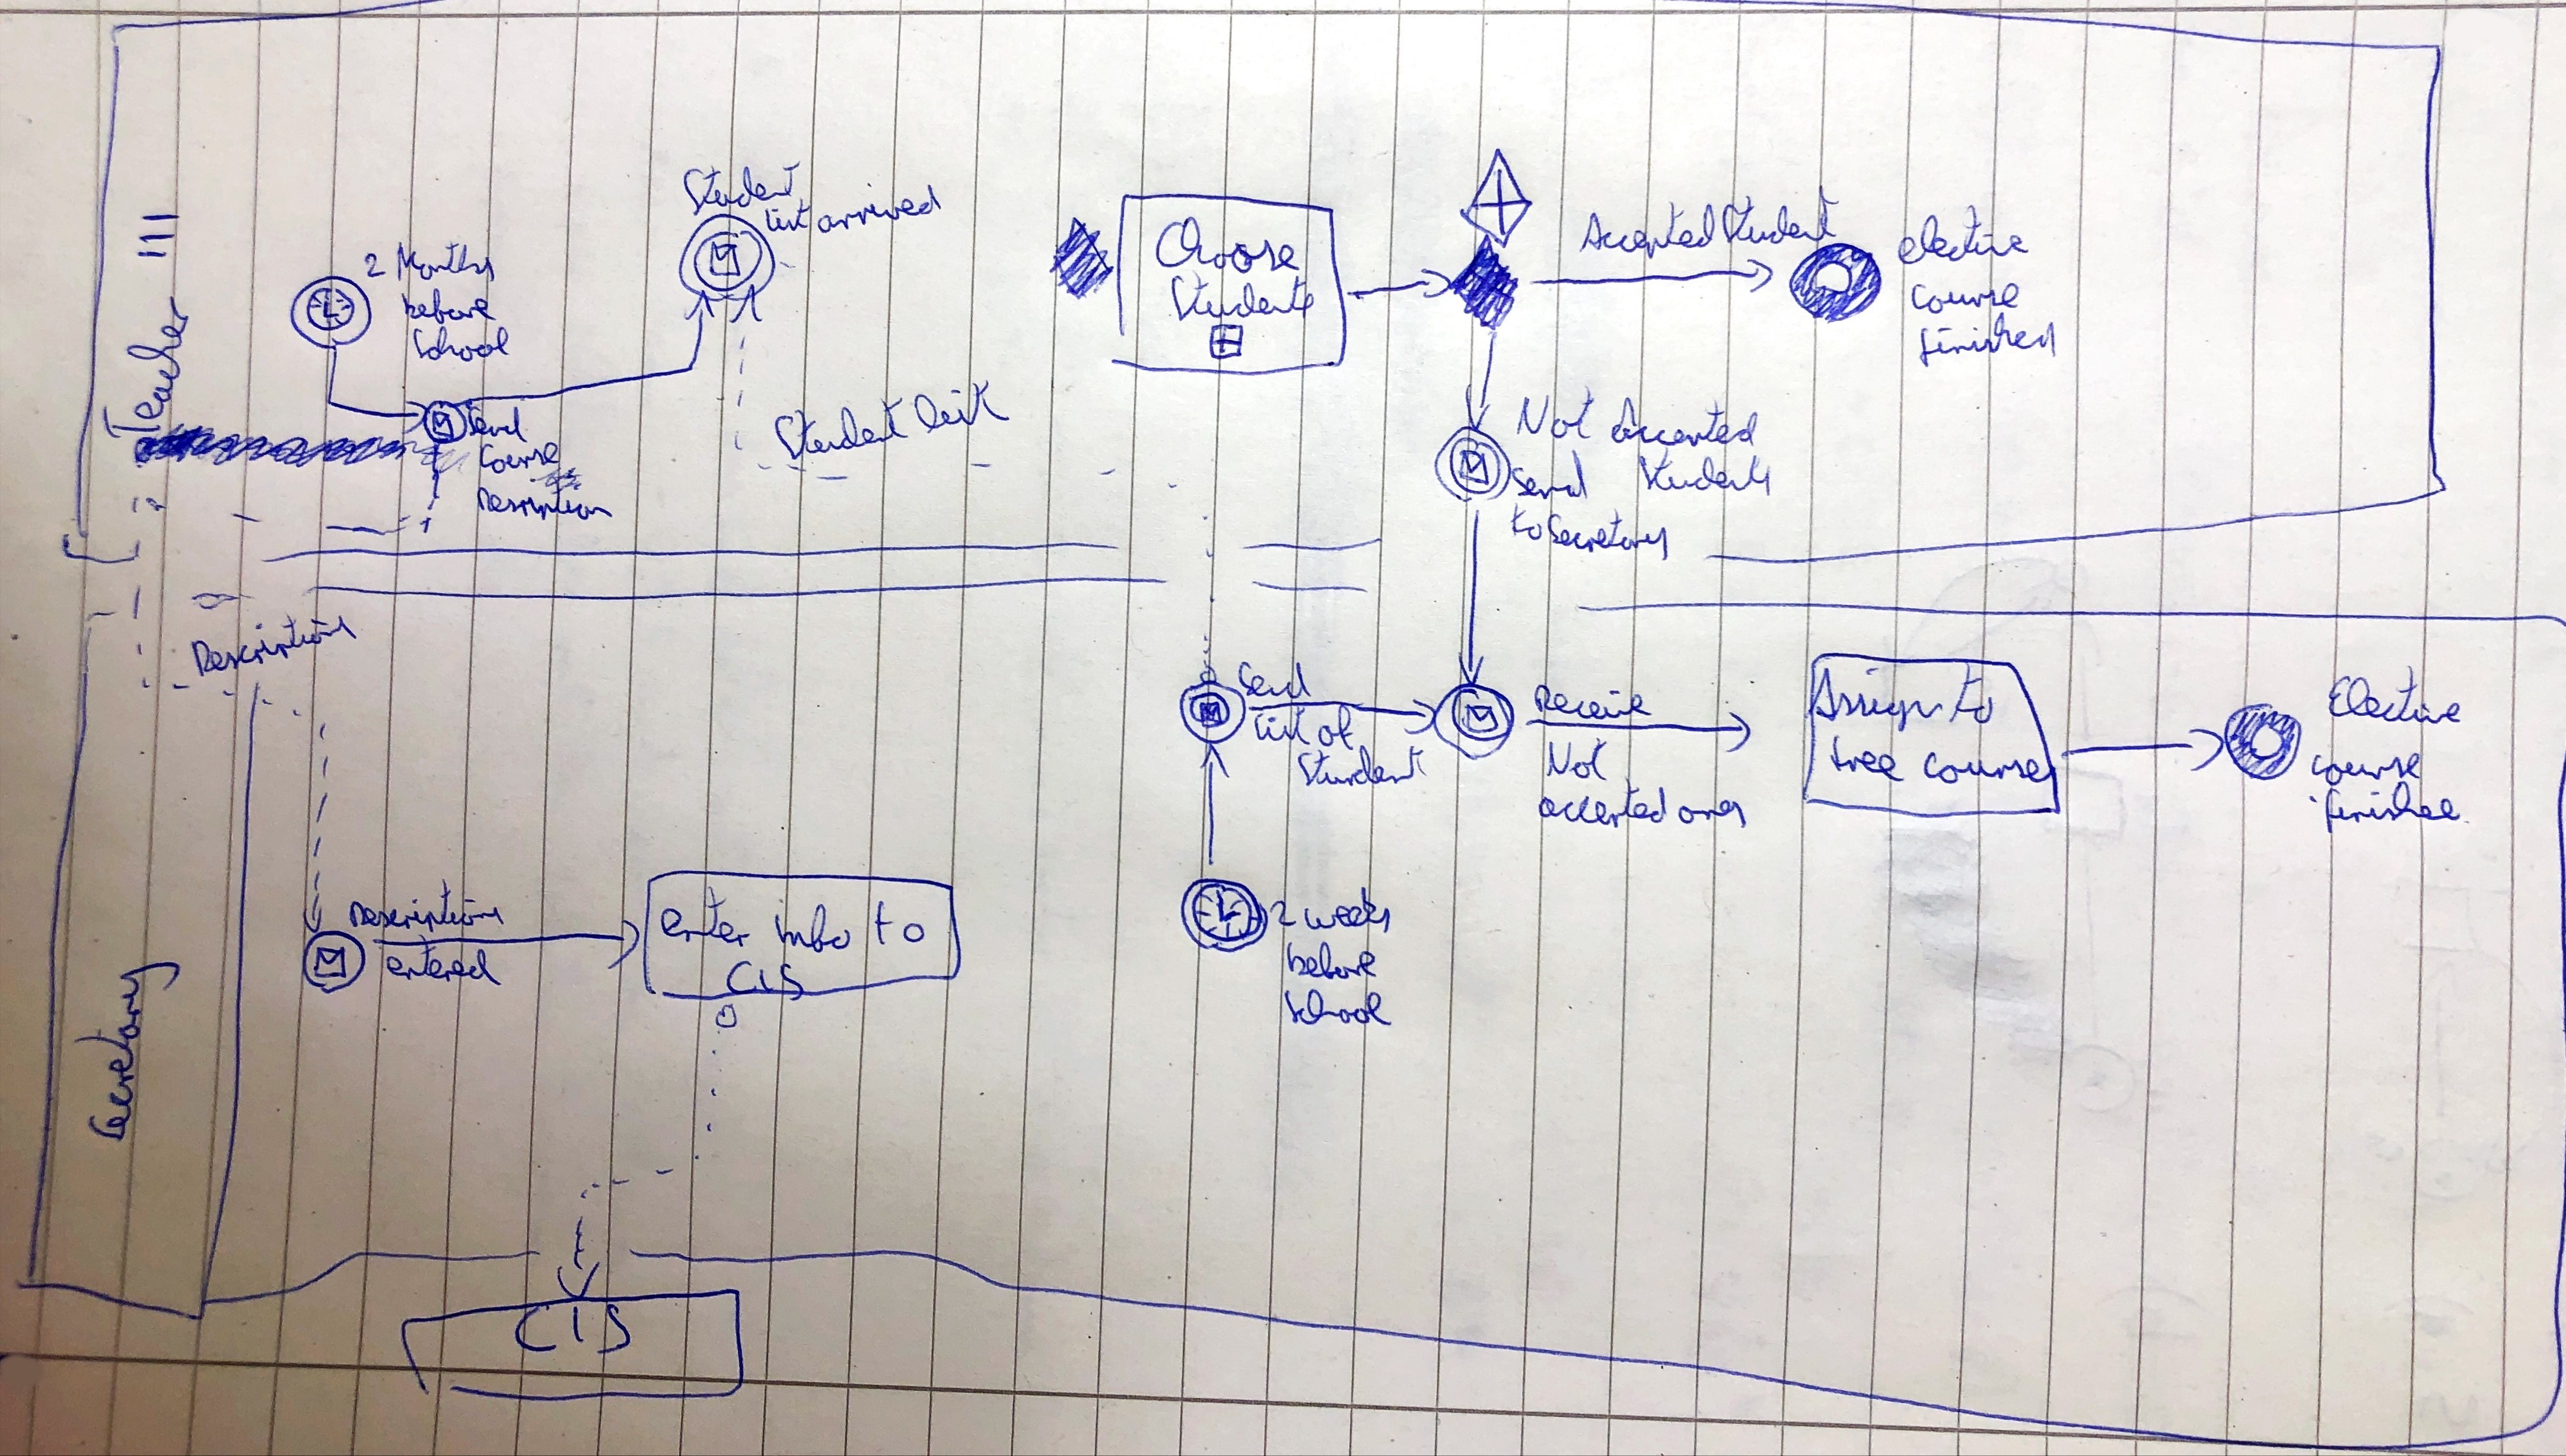2: (1271, 896, 1296, 932), (360, 251, 389, 281)
Accepted: (1578, 202, 1718, 260)
Assign: (1807, 659, 1941, 727)
CIS: (515, 1299, 632, 1361), (725, 955, 806, 1000)
Choose: (1151, 217, 1304, 275)
Description: (347, 882, 510, 930), (180, 645, 352, 689), (472, 482, 612, 532)
Elective: (2325, 669, 2468, 730)
III: (135, 204, 184, 273)
Months: (394, 238, 497, 285)
Not: (1516, 384, 1599, 439), (1544, 737, 1607, 785)
Receive: (1530, 682, 1651, 724)
School: (1280, 987, 1390, 1030)
Secretary: (1544, 505, 1672, 561)
Send: (464, 406, 526, 439)
Student: (1724, 186, 1844, 249), (768, 410, 903, 464), (1632, 450, 1772, 500), (676, 173, 799, 224), (1293, 748, 1433, 790)
Students: (1163, 274, 1318, 321)
Teacher: (124, 276, 206, 434)
accepted: (1609, 396, 1760, 452), (1539, 778, 1669, 830)
arrived: (810, 195, 939, 249)
before: (1283, 940, 1381, 983), (399, 291, 499, 325)
course: (1910, 746, 2054, 794), (2307, 745, 2425, 786), (1903, 281, 2021, 314), (470, 448, 568, 474)
elective: (1888, 205, 2030, 269)
enter: (655, 891, 755, 953)
entered: (382, 943, 500, 987)
finished: (1908, 314, 2055, 364), (2316, 784, 2463, 832)
free: (1826, 738, 1911, 784)
info: (764, 897, 857, 955)
leit: (910, 399, 1004, 445)
list: (1247, 709, 1312, 748), (757, 199, 816, 236)
of: (1311, 706, 1367, 748)
ones: (1675, 793, 1746, 830)
school: (409, 325, 511, 360)
secretary: (85, 946, 184, 1139)
send: (1509, 450, 1590, 501), (1235, 661, 1316, 700)
to: (866, 901, 930, 953), (1951, 665, 1994, 727), (1507, 502, 1546, 548)
weeks: (1304, 887, 1391, 935)
